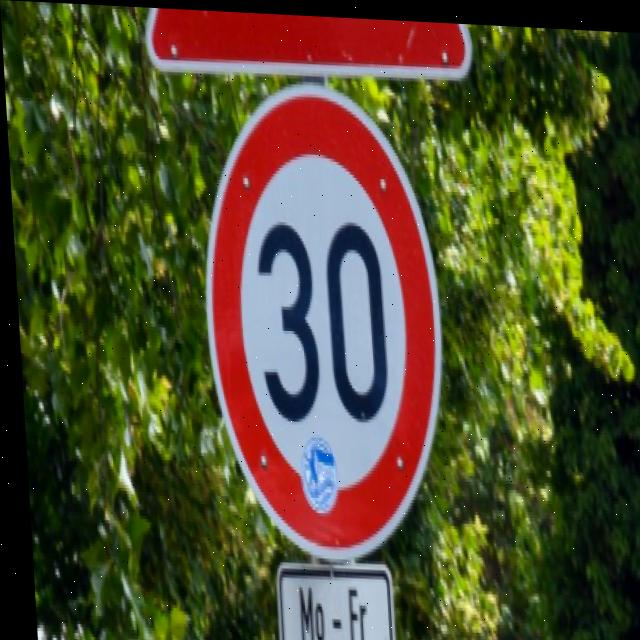Speed limit 30: (189, 72, 450, 562)
